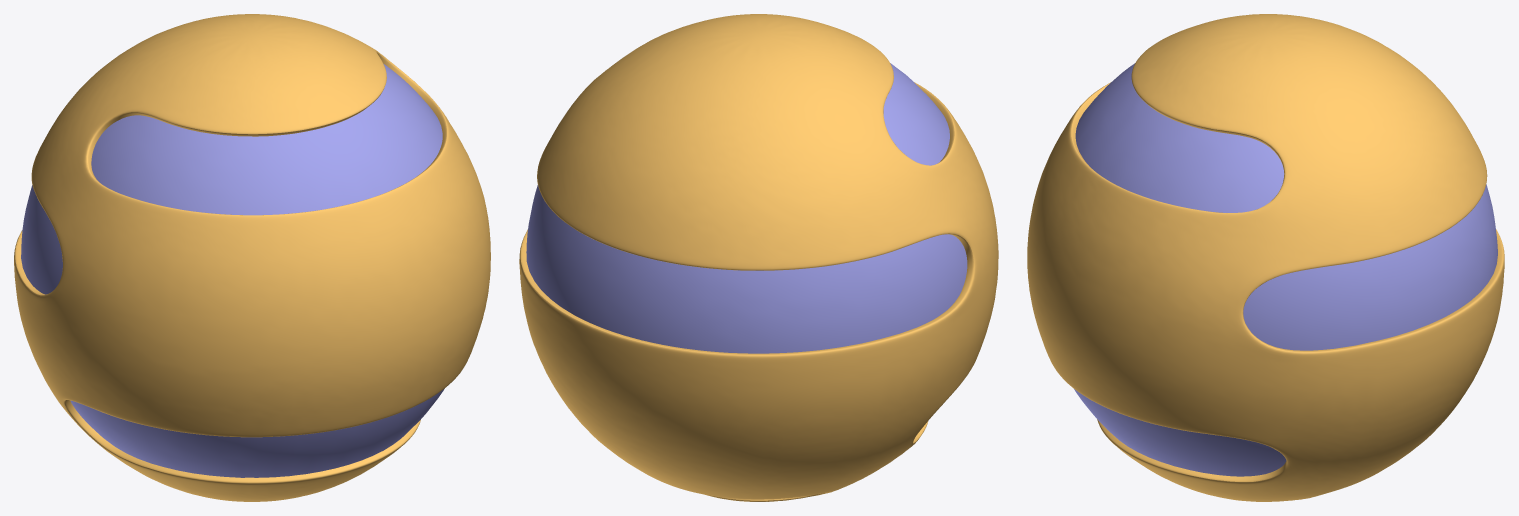
The model's file is uranus-10810858.glb.
The picture shows the model from 3 angles, left to right: view 1: azimuth 30°, elevation 25°; view 2: azimuth 150°, elevation 25°; view 3: azimuth 270°, elevation 25°; orthographic projection.
Parts seen in each view (by area): view 1: Uranus, Uranus.001; view 2: Uranus, Uranus.001; view 3: Uranus, Uranus.001.
Part boxes in pixels (x1,y1,x2,y2): Uranus: (14,14,490,501); Uranus.001: (21,64,444,477); Uranus: (519,14,998,501); Uranus.001: (526,63,967,353); Uranus: (1027,14,1504,501); Uranus.001: (1074,63,1497,476).
Size of the model in its own units: 6.77 by 6.93 by 6.73.
